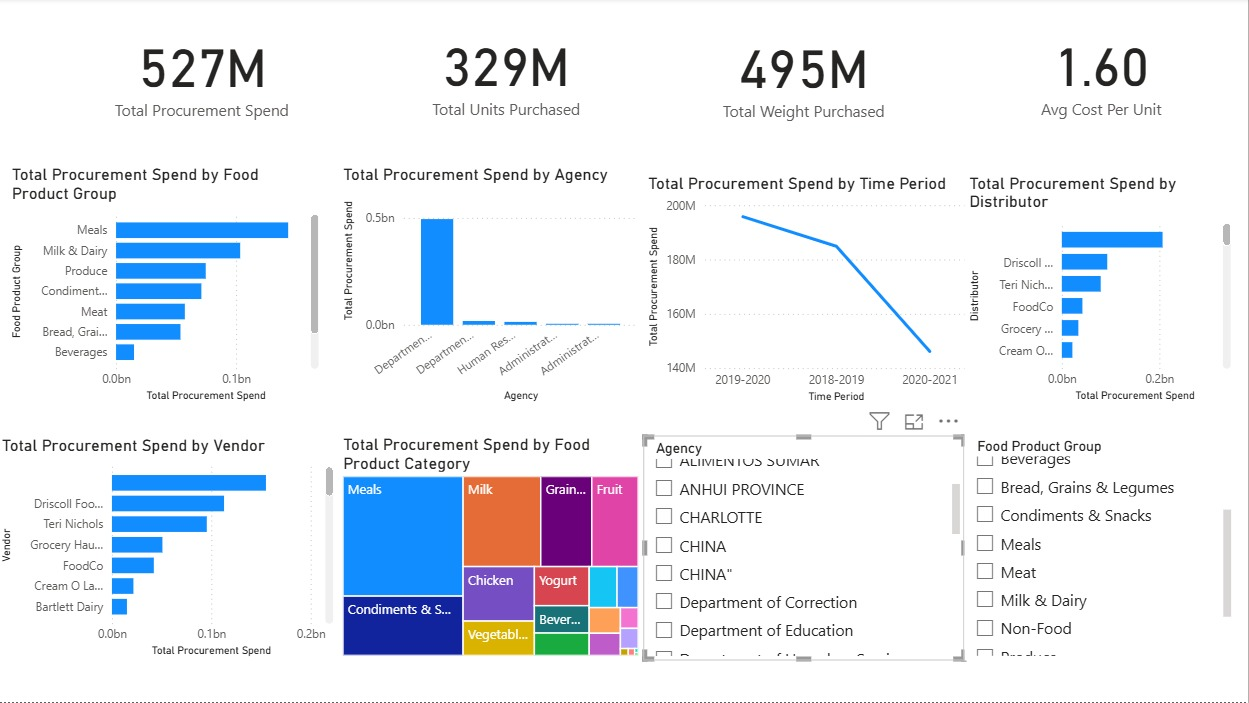

This screenshot's page, from the dashboard's own definition file:
{"tool":"powerbi","page":{"name":"Page 1","canvas":[1280,720],"ordinal":0},"visuals":[{"type":"card","fields":{"Values":["food_procurement_cleaned.Total Spend"]},"box":[70.3,2.6,278.8,147.1],"z":0},{"type":"card","fields":{"Values":["food_procurement_cleaned.Total Units"]},"box":[381.1,0,280.1,149.6],"z":1},{"type":"card","fields":{"Values":["food_procurement_cleaned.Total Weight"]},"box":[685.5,2.6,280.1,149.6],"z":2},{"type":"card","fields":{"Values":["food_procurement_cleaned.Avg Cost Per Unit"]},"box":[989.9,0,280.1,149.6],"z":3},{"type":"clusteredBarChart","fields":{"Category":["food_procurement_cleaned.Food Product Group"],"Y":["food_procurement_cleaned.Total Spend"]},"box":[9.8,170,324.1,248.2],"z":4},{"type":"clusteredBarChart","fields":{"Category":["food_procurement_cleaned.Vendor"],"Y":["food_procurement_cleaned.Total Spend"]},"box":[0,447.6,349.2,231.5],"z":5},{"type":"columnChart","fields":{"Category":["food_procurement_cleaned.Agency"],"Y":["food_procurement_cleaned.Total Spend"]},"box":[349.7,170,311.8,248.2],"z":6},{"type":"treemap","fields":{"Values":["food_procurement_cleaned.Total Spend"],"Group":["food_procurement_cleaned.Food Product Category"]},"box":[349.2,446.4,312.1,231.5],"z":7},{"type":"lineChart","fields":{"Category":["food_procurement_cleaned.Time Period"],"Y":["food_procurement_cleaned.Total Spend"]},"box":[661.6,178.5,338.7,239.7],"z":8},{"type":"slicer","fields":{"Values":["food_procurement_cleaned.Agency"]},"box":[661.2,447.6,328.7,230.2],"z":9},{"type":"clusteredBarChart","fields":{"Category":["food_procurement_cleaned.Distributor"],"Y":["food_procurement_cleaned.Total Procurement Spend"]},"box":[989.9,179.1,277.5,239.2],"z":10},{"type":"slicer","fields":{"Values":["food_procurement_cleaned.Food Product Group"]},"box":[990,445,278,233],"z":11}]}

Visuals, with their boxes in screenshot pixels (x1, y1, x2, y2), scaled from the page's 1280x720 canvas onto the 1249x703 screenshot:
card - food_procurement_cleaned.Total Spend: l=69, t=3, r=341, b=146
card - food_procurement_cleaned.Total Units: l=372, t=0, r=645, b=146
card - food_procurement_cleaned.Total Weight: l=669, t=3, r=942, b=149
card - food_procurement_cleaned.Avg Cost Per Unit: l=966, t=0, r=1239, b=146
clusteredBarChart - food_procurement_cleaned.Food Product Group x food_procurement_cleaned.Total Spend: l=10, t=166, r=326, b=408
clusteredBarChart - food_procurement_cleaned.Vendor x food_procurement_cleaned.Total Spend: l=0, t=437, r=341, b=663
columnChart - food_procurement_cleaned.Agency x food_procurement_cleaned.Total Spend: l=341, t=166, r=645, b=408
treemap - food_procurement_cleaned.Total Spend x food_procurement_cleaned.Food Product Category: l=341, t=436, r=645, b=662
lineChart - food_procurement_cleaned.Time Period x food_procurement_cleaned.Total Spend: l=646, t=174, r=976, b=408
slicer - food_procurement_cleaned.Agency: l=645, t=437, r=966, b=662
clusteredBarChart - food_procurement_cleaned.Distributor x food_procurement_cleaned.Total Procurement Spend: l=966, t=175, r=1237, b=408
slicer - food_procurement_cleaned.Food Product Group: l=966, t=434, r=1237, b=662
